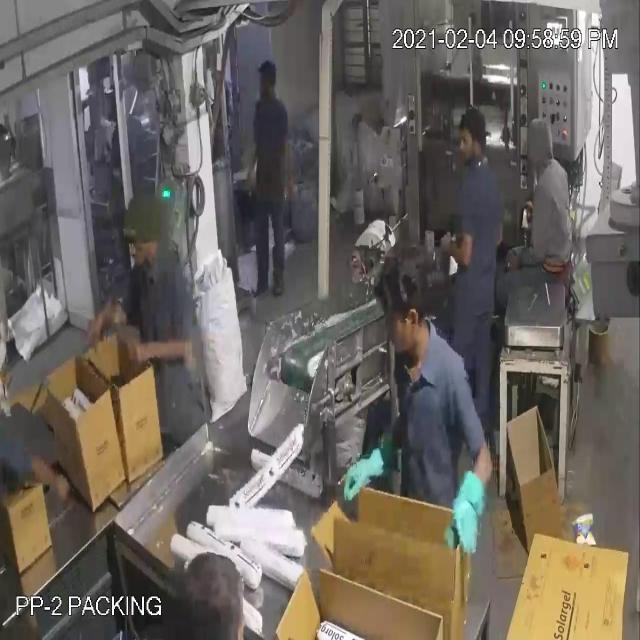No_Gloves: (39, 60, 467, 504)
